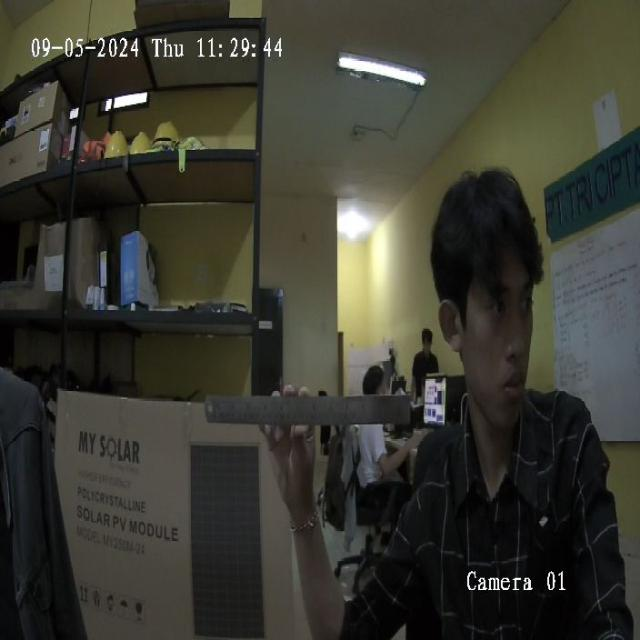Ruler: (205, 396, 410, 424)
